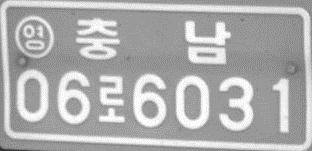0: (174, 74, 210, 130), (15, 66, 50, 123)
1: (264, 78, 299, 134)
3: (217, 76, 254, 132)
6: (55, 69, 91, 127), (131, 72, 168, 128)
로: (97, 75, 126, 123)
영: (14, 15, 54, 59)
충남_D: (74, 15, 230, 65)
